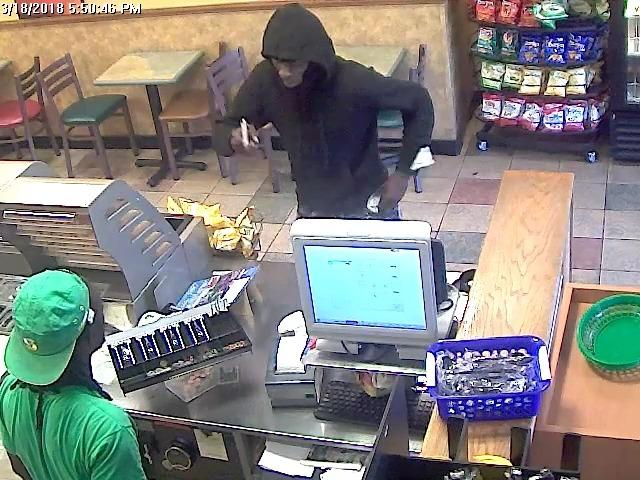weapon: (226, 114, 271, 155)
